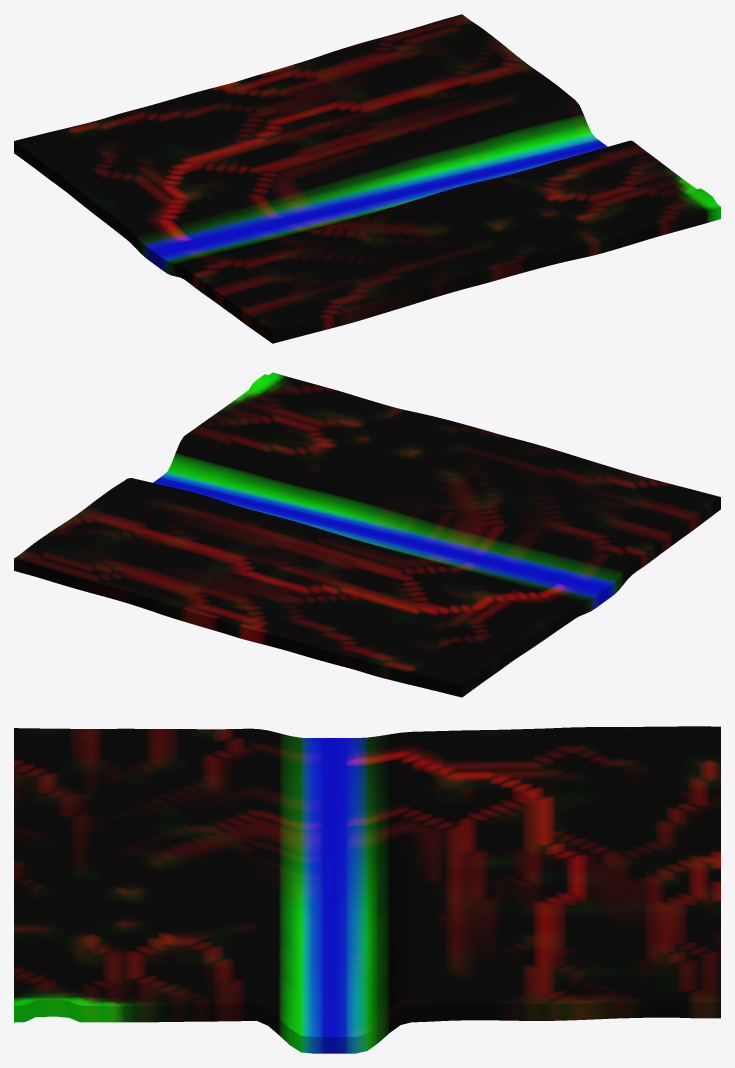
Rendered from Terrain_04_01.fbx.
The picture shows the model from 3 angles, top to bottom: view 1: azimuth 30°, elevation 25°; view 2: azimuth 150°, elevation 25°; view 3: azimuth 270°, elevation 25°; orthographic projection. The views are drawn at different scales.
Parts seen in each view (by area): view 1: Terrain_04_01_LOD0; view 2: Terrain_04_01_LOD0; view 3: Terrain_04_01_LOD0.
Part boxes in pixels (left/top/right/bottom): Terrain_04_01_LOD0: left=14, top=14, right=720, bottom=343; Terrain_04_01_LOD0: left=14, top=372, right=720, bottom=697; Terrain_04_01_LOD0: left=14, top=726, right=720, bottom=1053.
Size of what is drawn, in the model's own units: 384 by 32 by 384.
